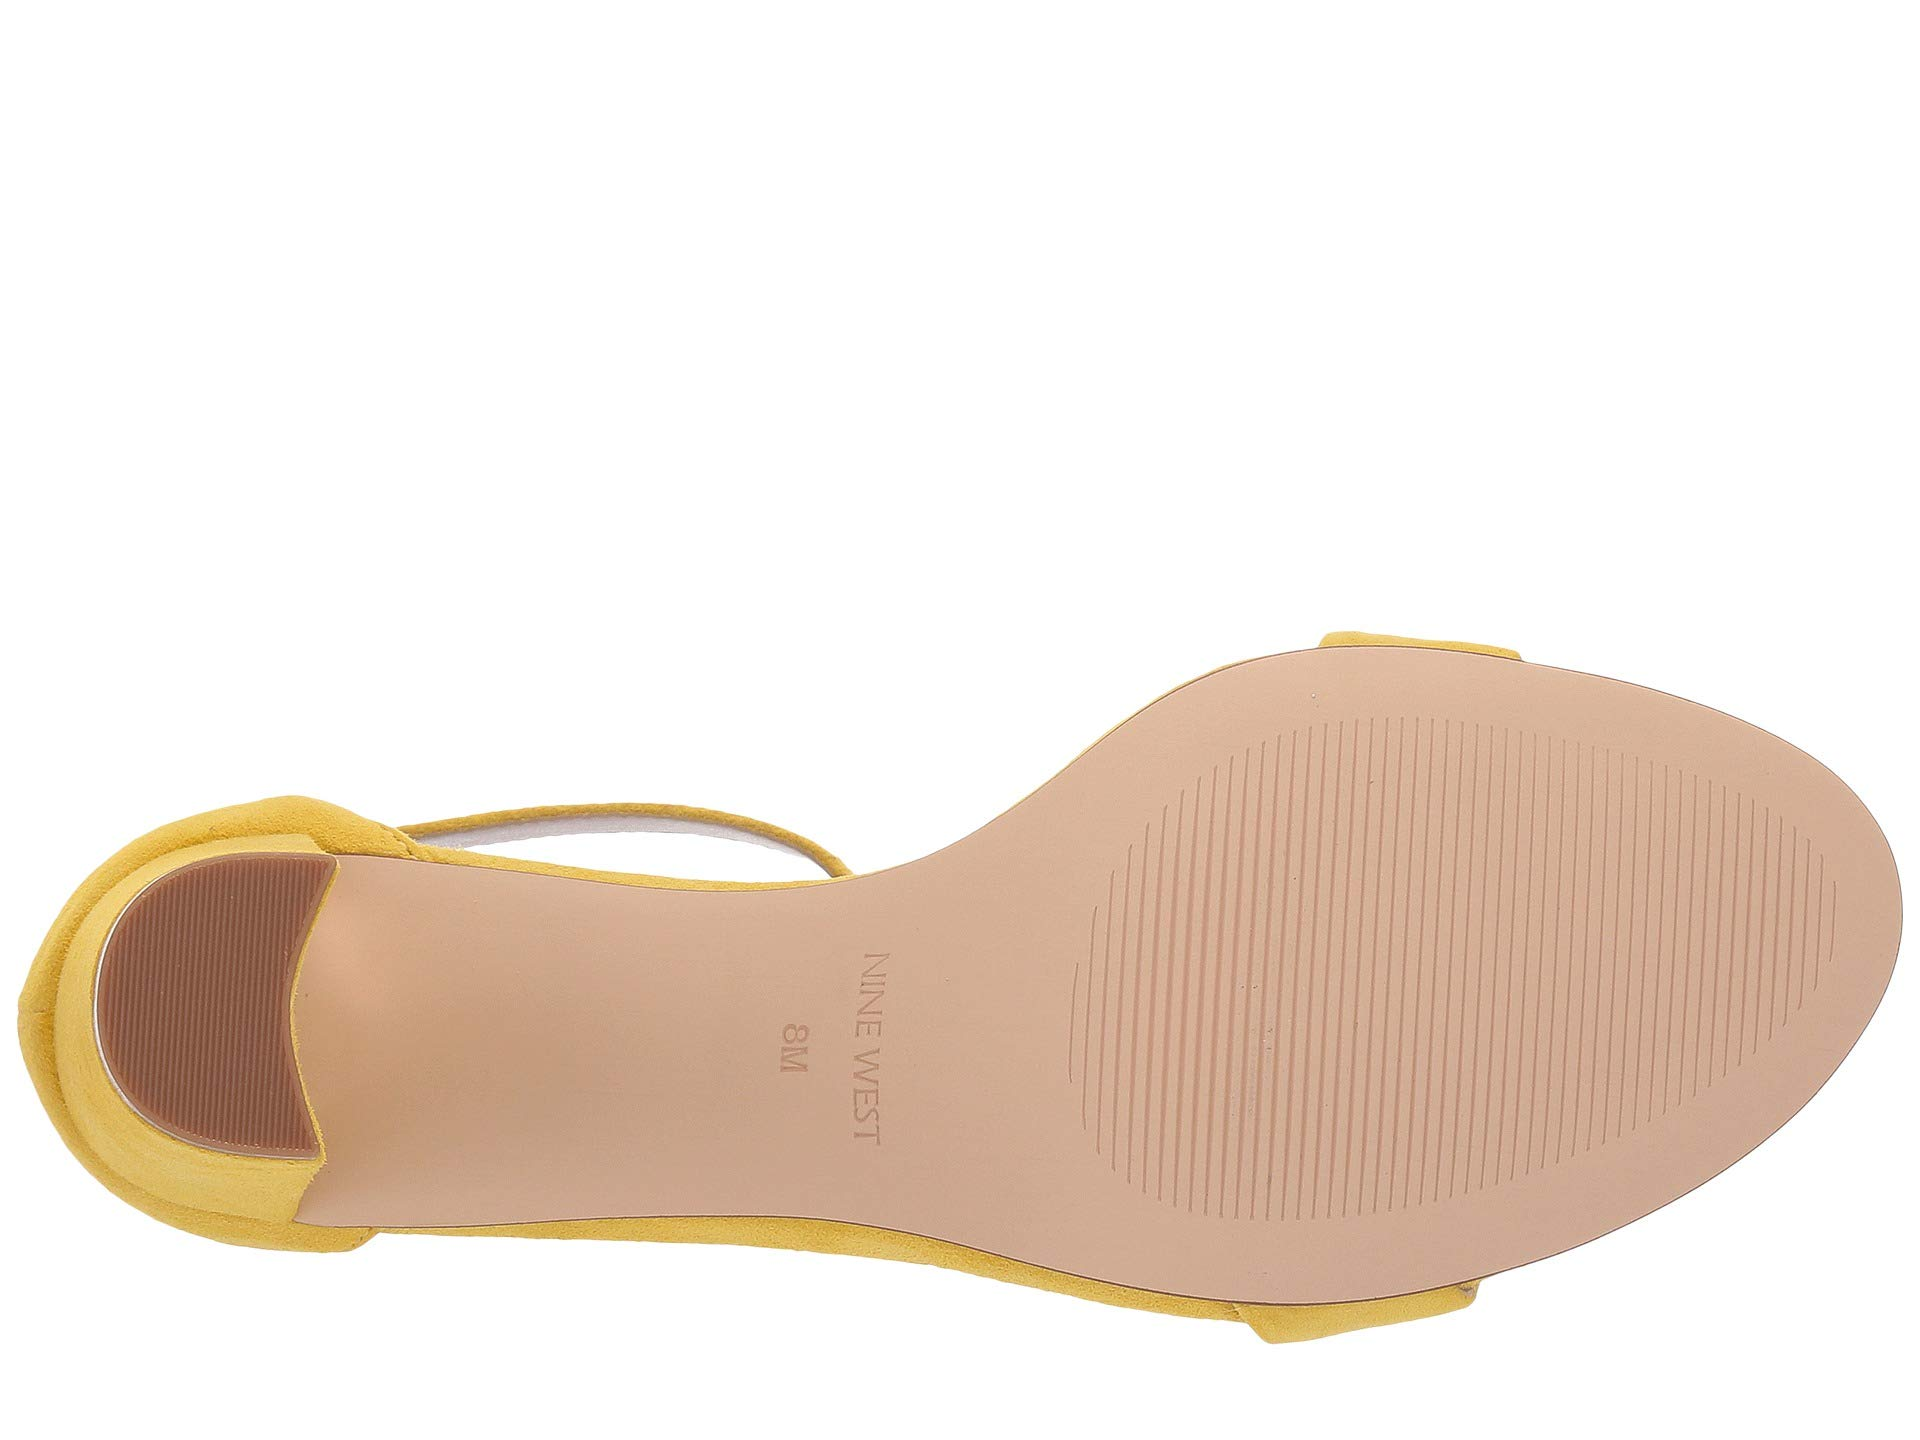line: (1215, 784, 1547, 1153)
